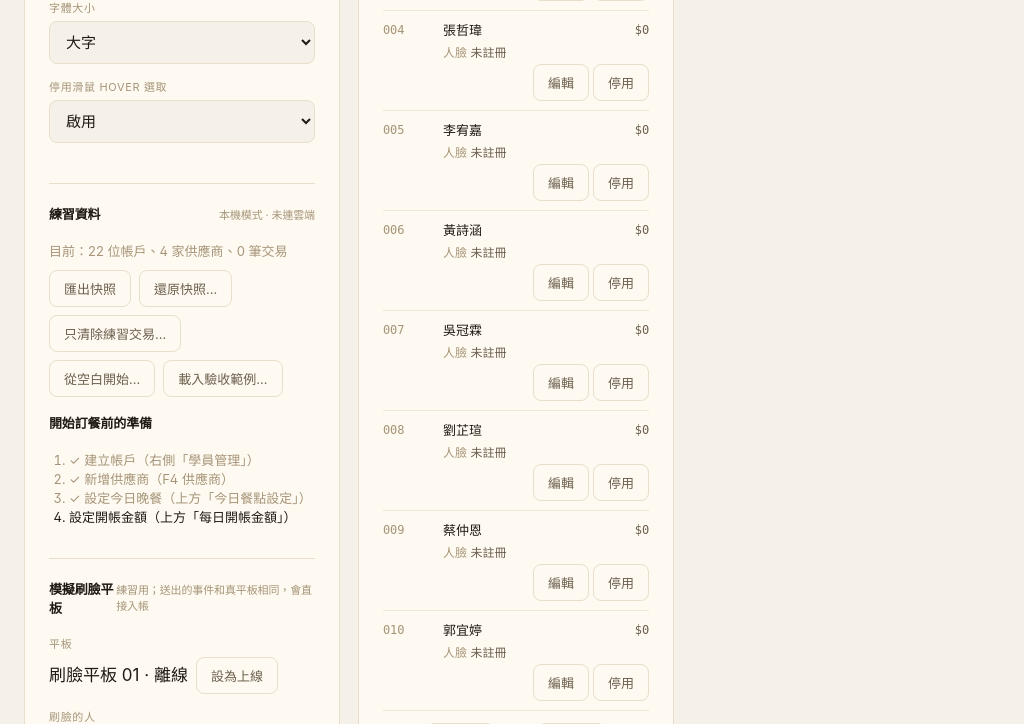
AdminScreen practice data (local mode) › cancel on "從空白開始" changes nothing; confirm clears everything (S02)
(page scrolled)
Click the button "從空白開始…" at (102, 378), box [49,360,155,397]
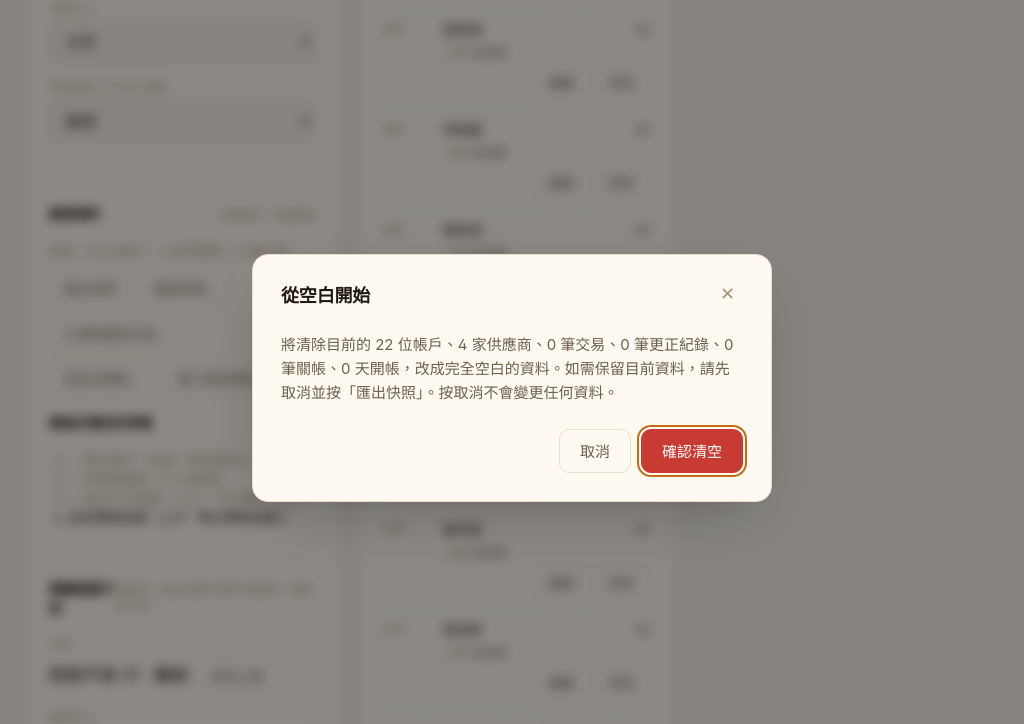
Click the button "取消" at (595, 451), box [559,429,631,473]
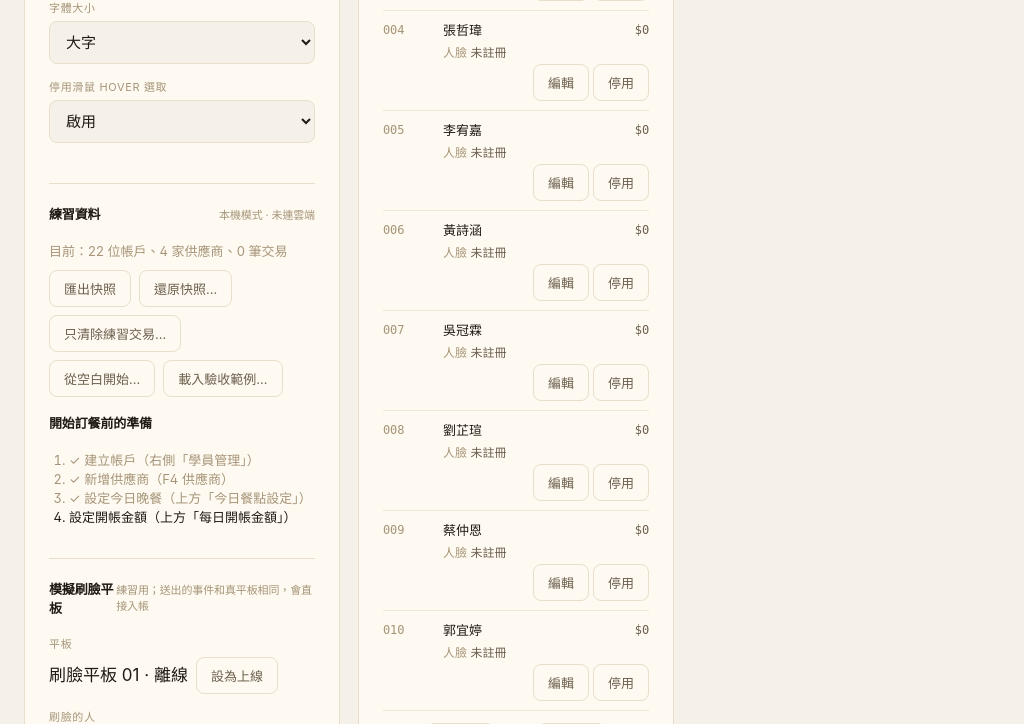
Click the button "從空白開始…" at (102, 378), box [49,360,155,397]
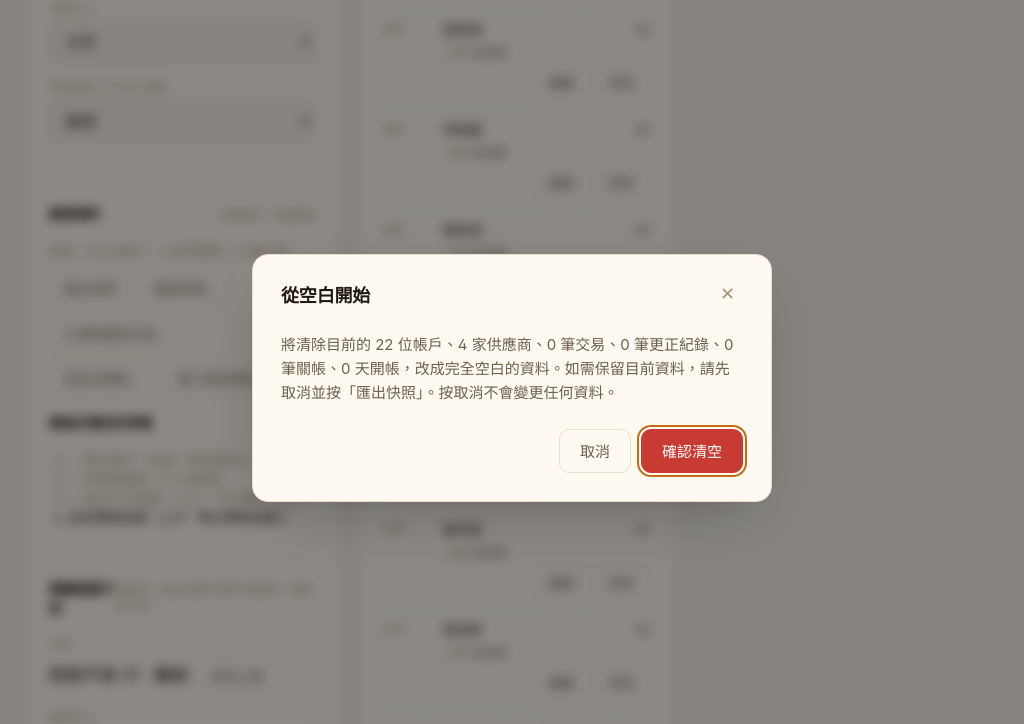
Click the button "確認清空" at (692, 451), box [641,429,743,473]
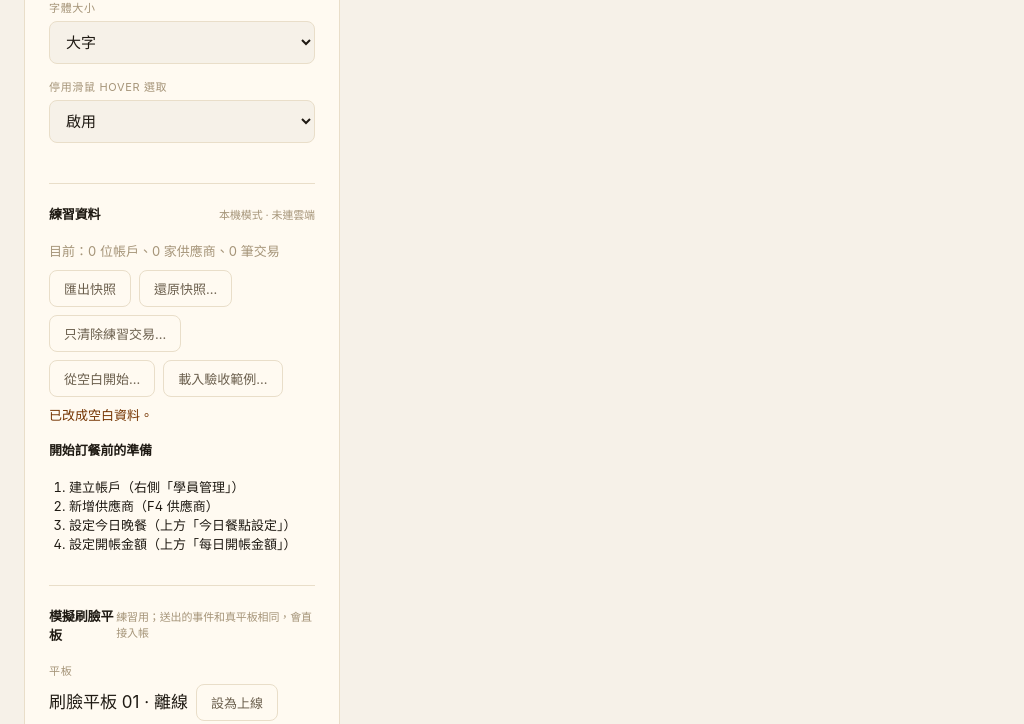
Result: the element labelled "練習資料" shows "0 位帳戶、0 家供應商、0 筆交易" at [49,183,315,553]
